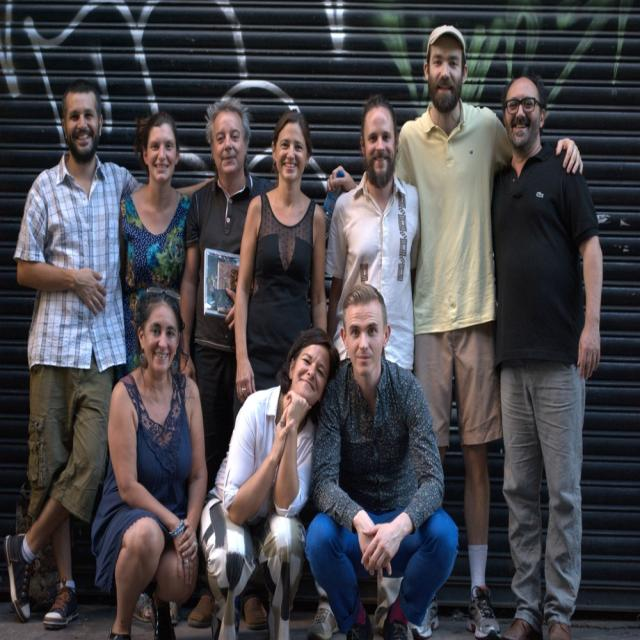body: (314, 17, 586, 639), (3, 77, 216, 630), (487, 69, 608, 640), (303, 281, 461, 640), (85, 278, 212, 639), (197, 325, 341, 639), (177, 92, 279, 514), (232, 106, 329, 407), (322, 92, 422, 380), (116, 110, 200, 378)
